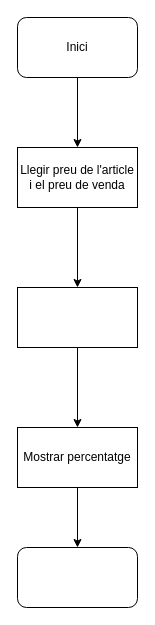
The diagram is 155 pixels wide and 625 high, and some of its shapes have lost their labels. The centre of each missing label's shape, as x and y in pixels:
"Calcular el percentatge de descompte aplicat" belongs at (x=77, y=317).
"Fi" belongs at (x=77, y=577).
